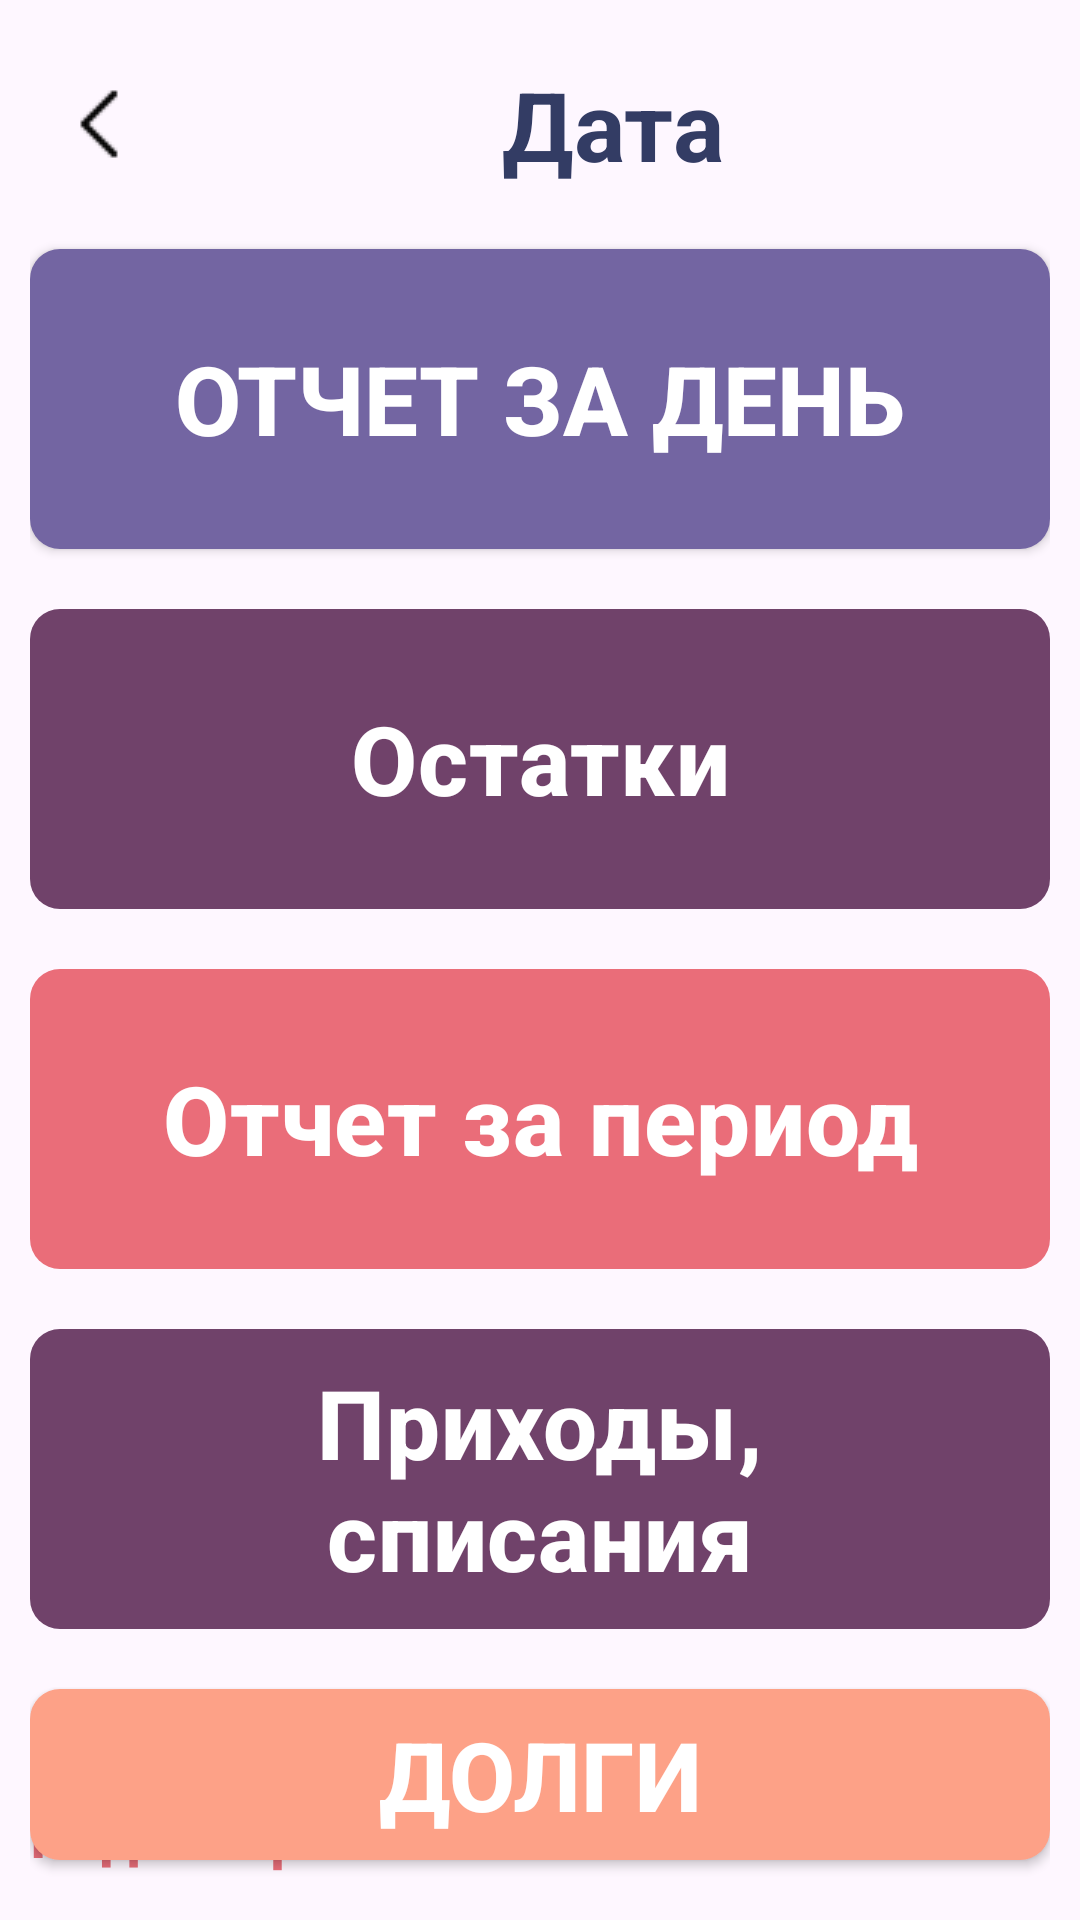

Icon click points for this 1080w x 1920h phone screenshot, format (x,y):
back: (99,124)
